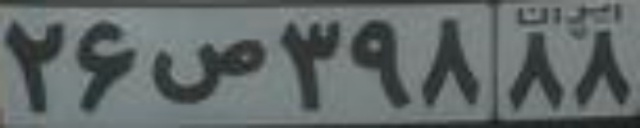2: (4, 20, 61, 113)
3: (280, 20, 340, 110)
6: (74, 20, 139, 110)
8: (418, 17, 482, 106), (505, 31, 565, 112), (576, 30, 633, 109)
9: (347, 19, 411, 111)
saat: (150, 36, 265, 103)
